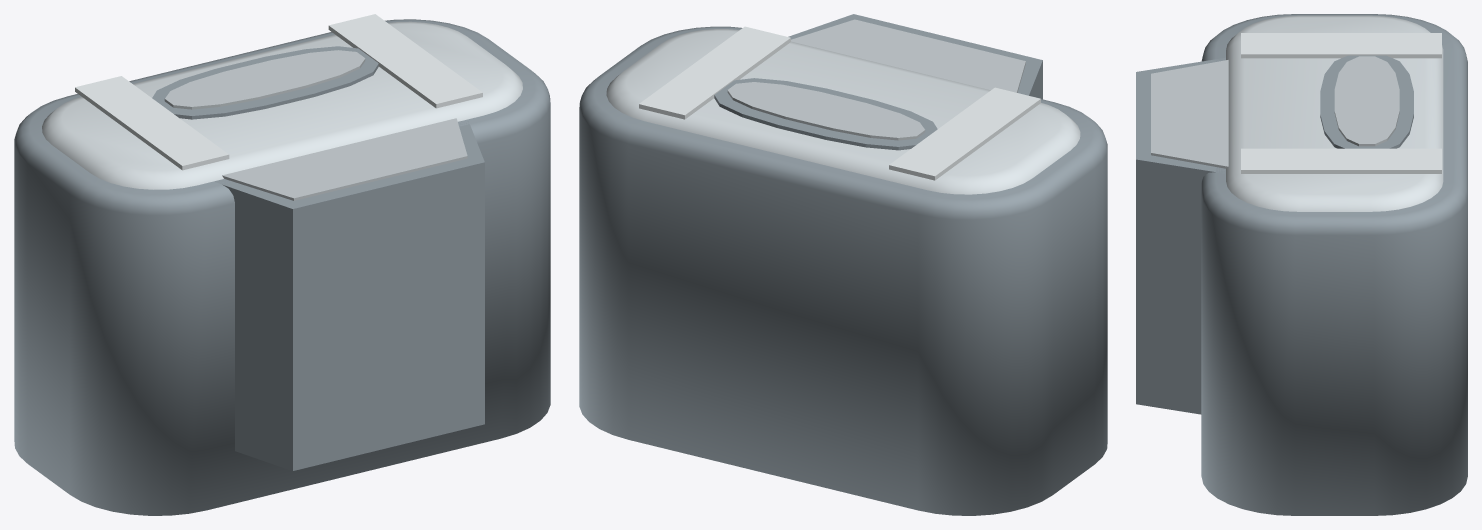
The model's file is bag_padrao_branca.fbx.
3 renders of one model, left to right at view 1: azimuth 30°, elevation 25°; view 2: azimuth 150°, elevation 25°; view 3: azimuth 270°, elevation 25°, orthographic. The views are drawn at different scales.
Visible parts, largest first — view 1: bag_padrao_branca_mochila; view 2: bag_padrao_branca_mochila; view 3: bag_padrao_branca_mochila.
Boxes of the visible parts, x1,y1,x2,y2 form: bag_padrao_branca_mochila: (14,14,550,515); bag_padrao_branca_mochila: (579,14,1107,515); bag_padrao_branca_mochila: (1136,14,1467,515).
Size of the model in its own units: 2.8 by 1.9 by 1.84.
Materials: 1 (1 with a texture image).
